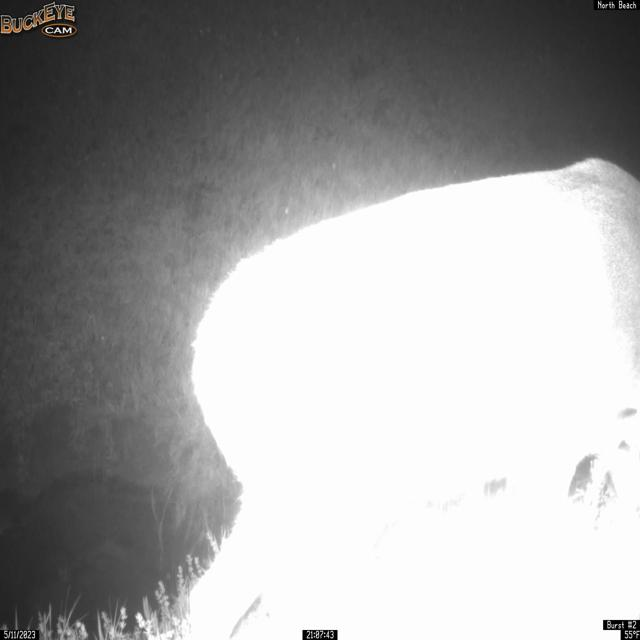deer: (176, 155, 640, 639)
